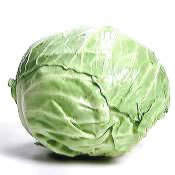cabbage: (8, 24, 171, 162)
